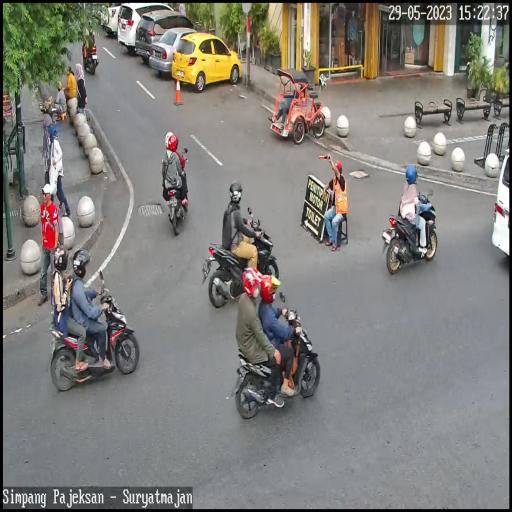mobil: (173, 32, 240, 92), (135, 12, 198, 66), (119, 1, 173, 52), (150, 28, 201, 76)
motor: (50, 276, 141, 390), (232, 310, 322, 421), (203, 225, 277, 310), (382, 191, 439, 274), (162, 148, 190, 240)
